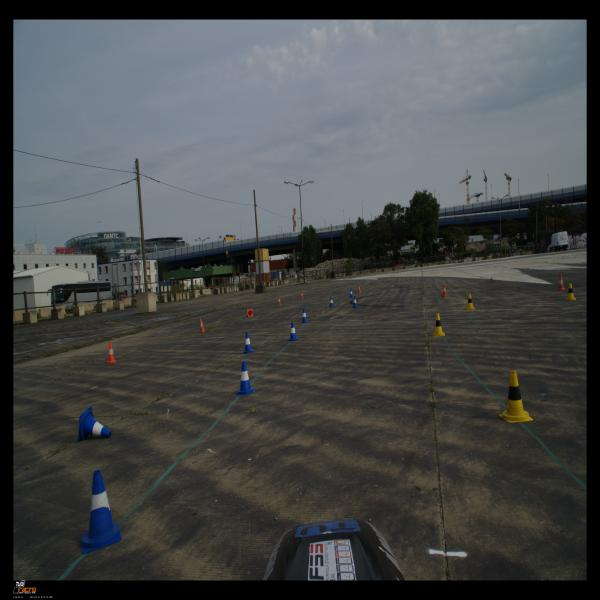blue_cone: (80, 470, 121, 554), (78, 406, 111, 443), (236, 361, 255, 396), (242, 332, 256, 354), (288, 322, 298, 342), (300, 309, 309, 323), (352, 296, 359, 308), (329, 297, 335, 307), (349, 289, 354, 297)
orange_cone: (105, 342, 118, 364), (556, 275, 566, 290), (199, 318, 206, 333), (441, 284, 447, 297), (247, 309, 253, 317), (278, 296, 282, 305), (300, 291, 304, 299), (358, 284, 361, 293)
yellow_cone: (499, 370, 533, 423), (432, 313, 446, 336), (566, 283, 576, 300), (466, 294, 475, 310)
